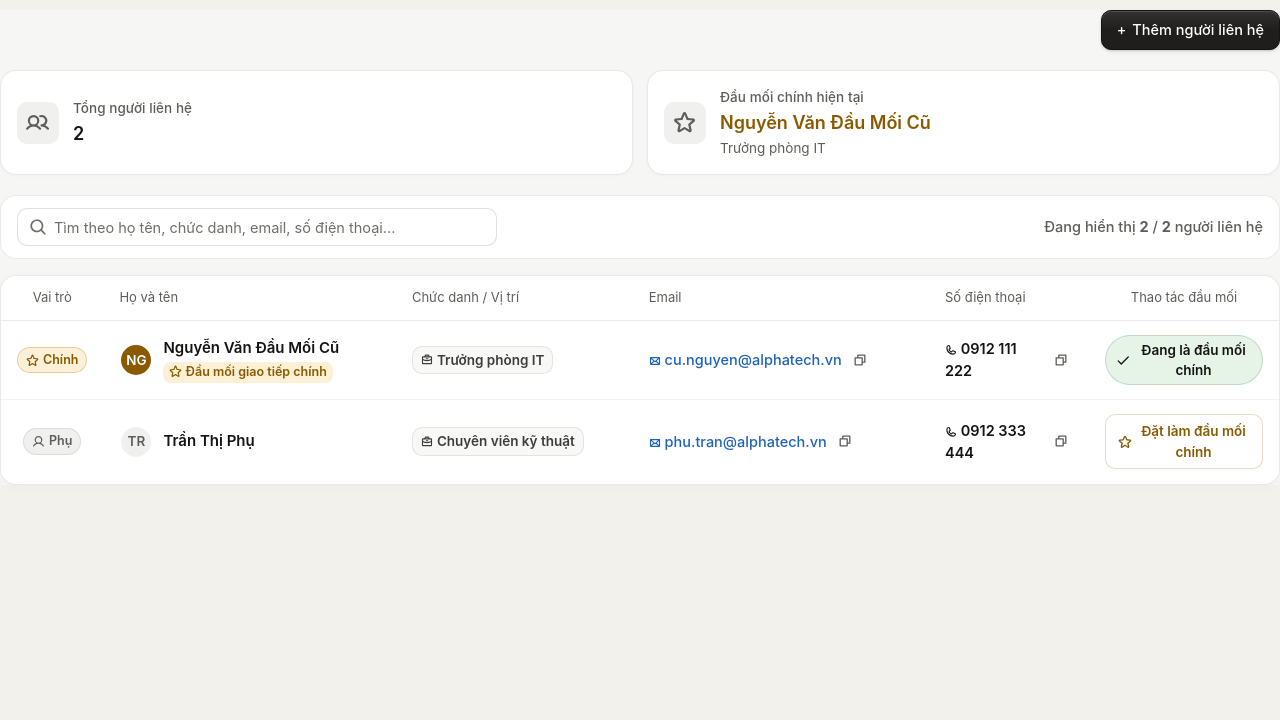
Customer Contact Management Frontend (NCL-02-CN-003) › NCL-02-CN-003-TC-01: Luồng thành công (Thêm người liên hệ & đánh dấu đầu mối chính) › thêm người liên hệ và đánh dấu là đầu mối chính -> người liên hệ được lưu và hiển thị đầu danh sách
// Mở modal thêm người liên hệ
Step 1. Click the button with test id "btn-open-add-contact" → (1190, 30), box [1101,10,1279,50]
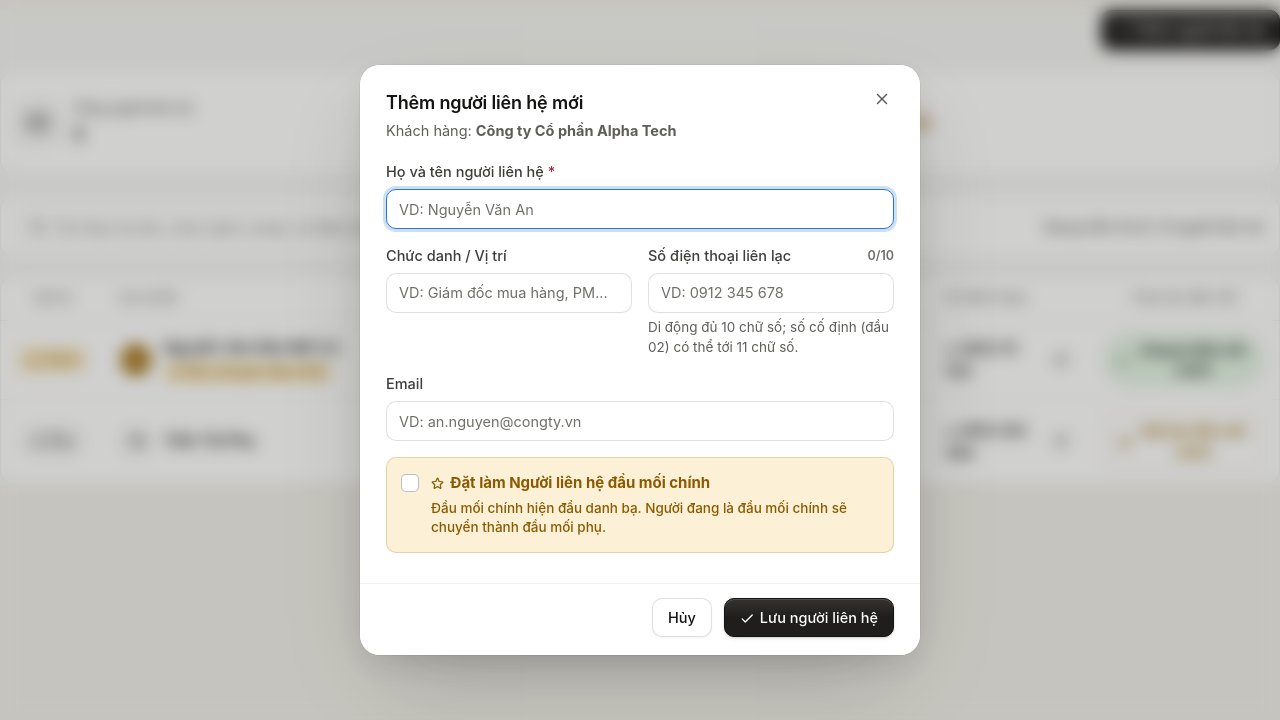
Check: the element with test id "contact-form-modal" is shown
Step 2. Type "Lê Văn Mới" into the field labelled "Họ và tên người liên hệ *" → (640, 209), box [386,189,894,229]
Step 3. Type "Giám đốc Mua hàng" into the field labelled "Chức danh / Vị trí" → (509, 293), box [386,273,632,313]
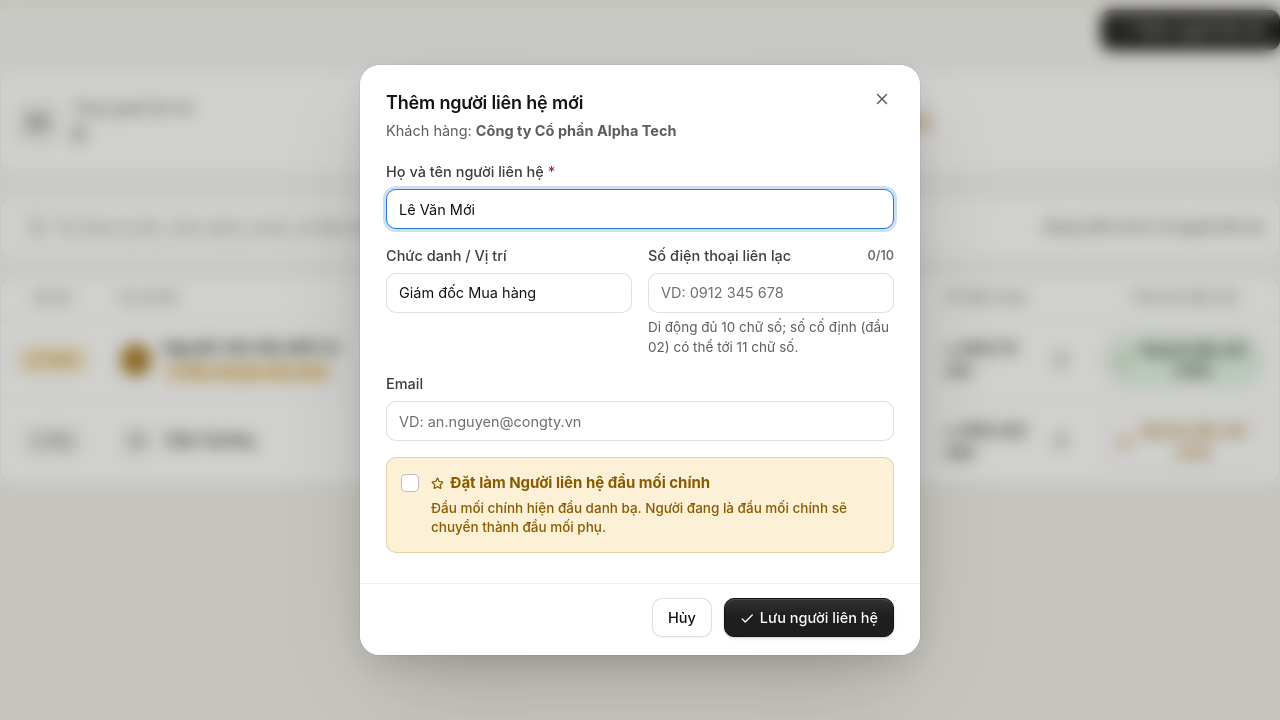
Step 4. Type "moi.le@alphatech.vn" into the field labelled "Email" → (640, 421), box [386,401,894,441]
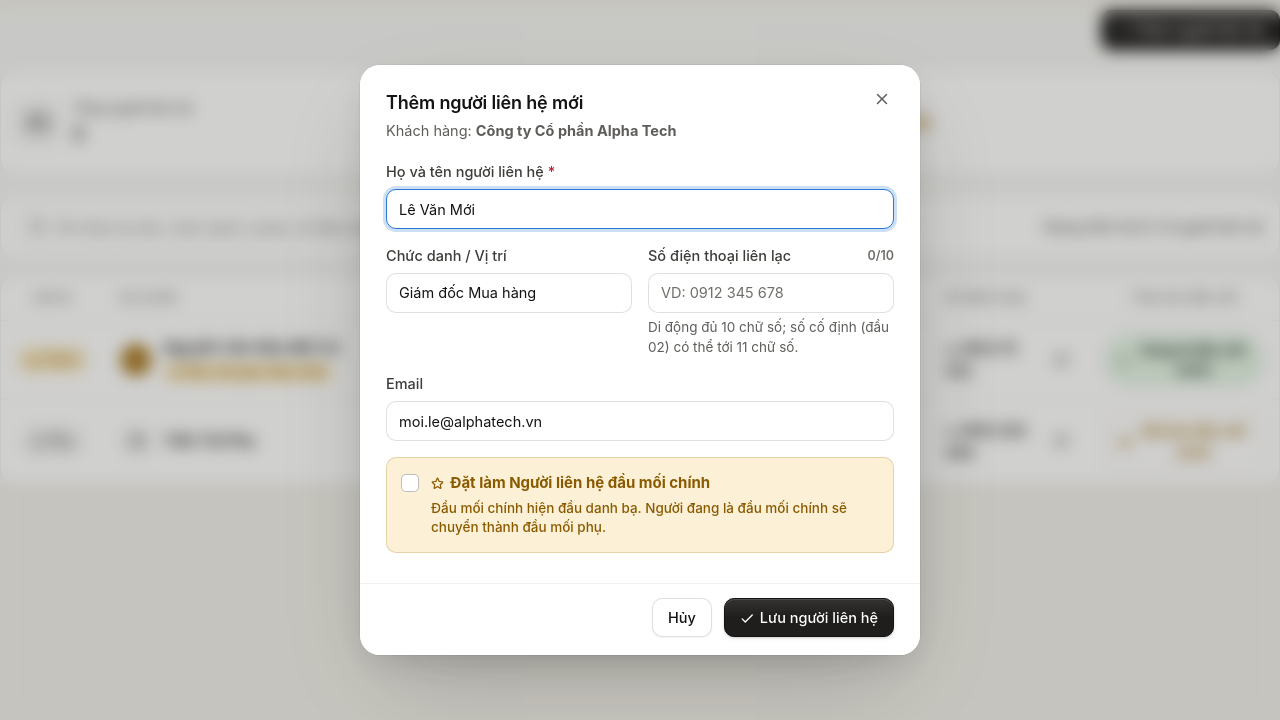
Step 5. Type "0988 777 666" into the field labelled "Số điện thoại liên lạc" → (771, 293), box [648,273,894,313]
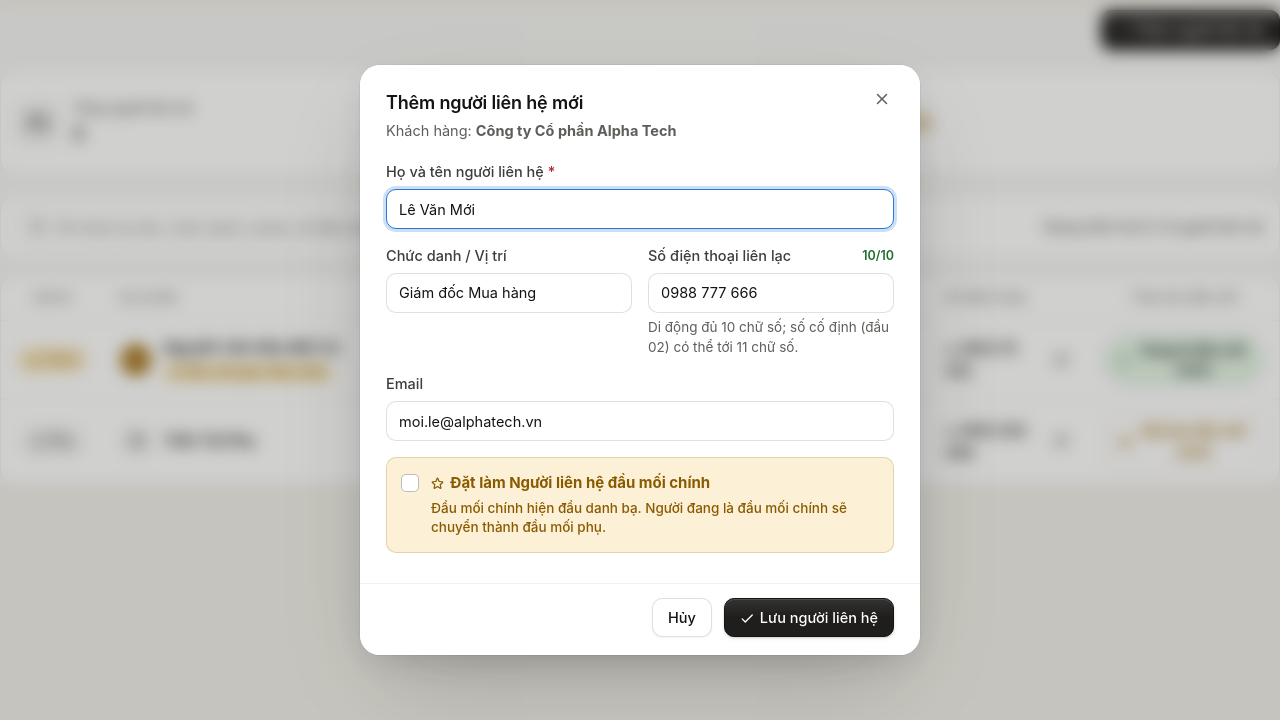
Step 6. Click the checkbox labelled "Đặt làm Người liên hệ đầu mối chính" → (410, 483), box [401,474,419,492]
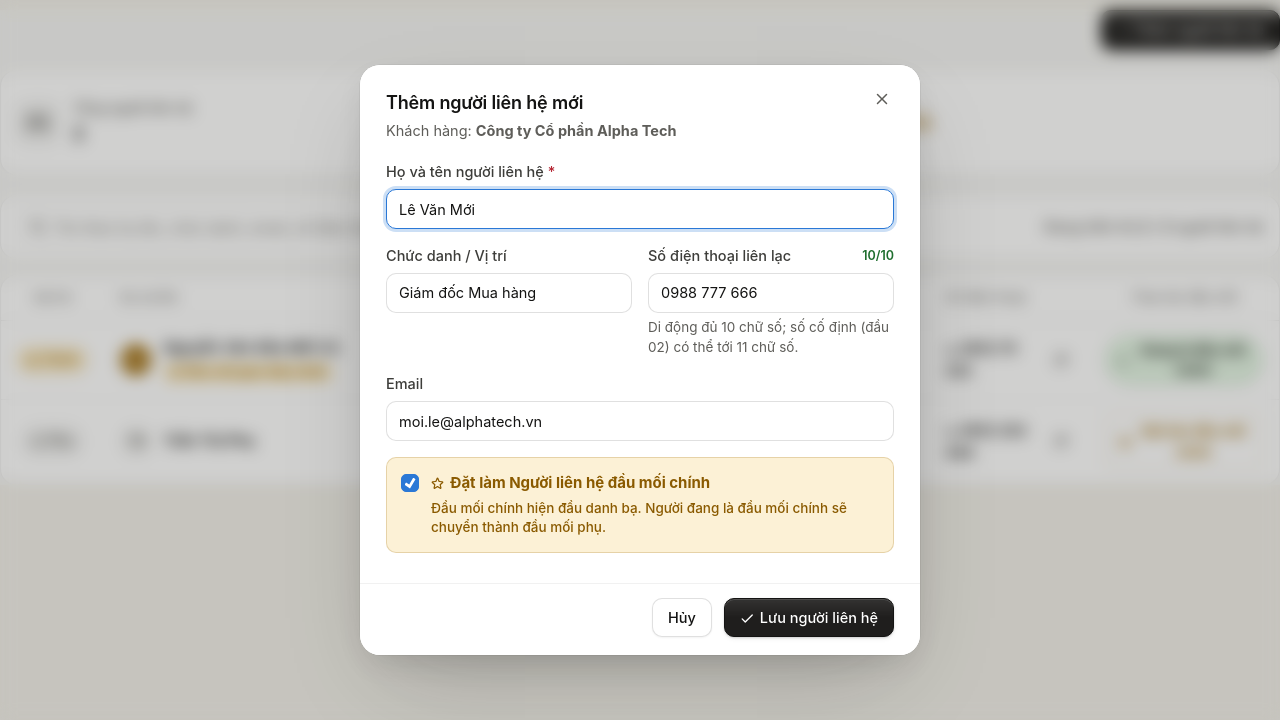
// Submit form
Step 7. Click the button with test id "btn-submit-contact" → (809, 618), box [724,598,894,638]
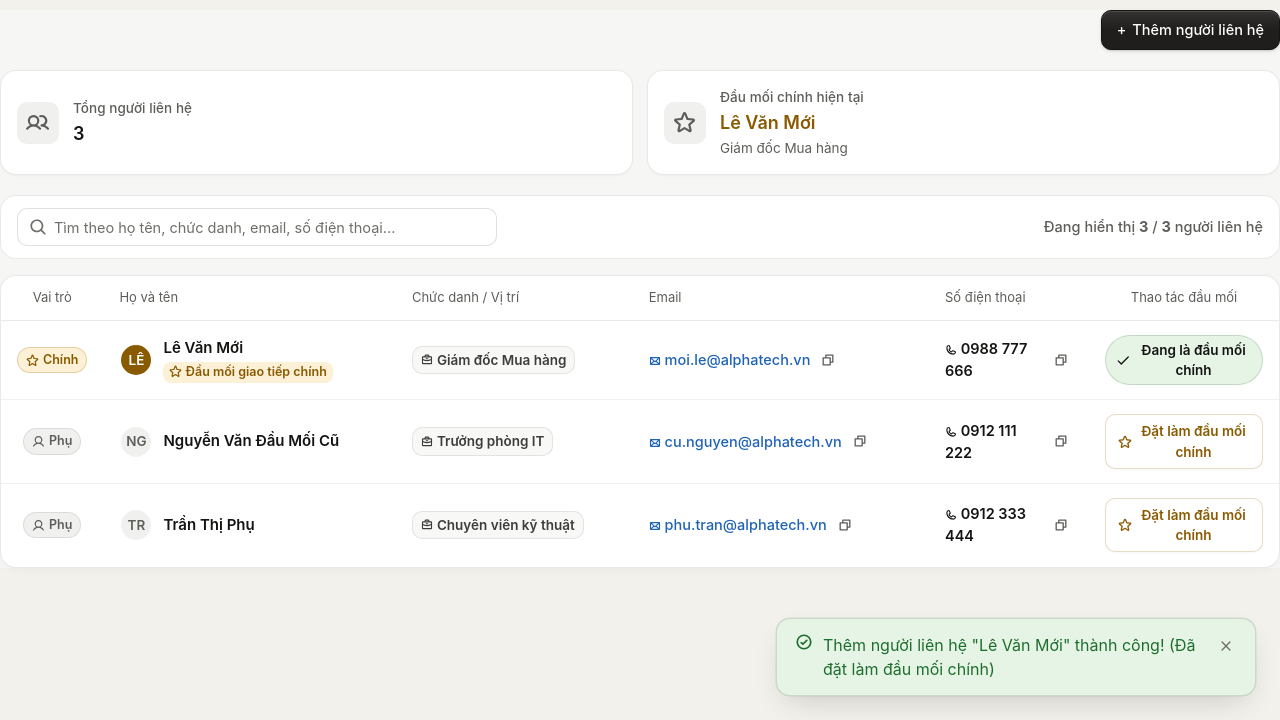
Check: the element with test id "badge-primary-3" is shown, box [17,347,87,373]
Check: the text with test id "contact-name-3" reads "Lê Văn Mới", box [163,338,243,357]
Check: the text with test id "stat-primary-name" reads "Lê Văn Mới", box [720,112,816,133]
